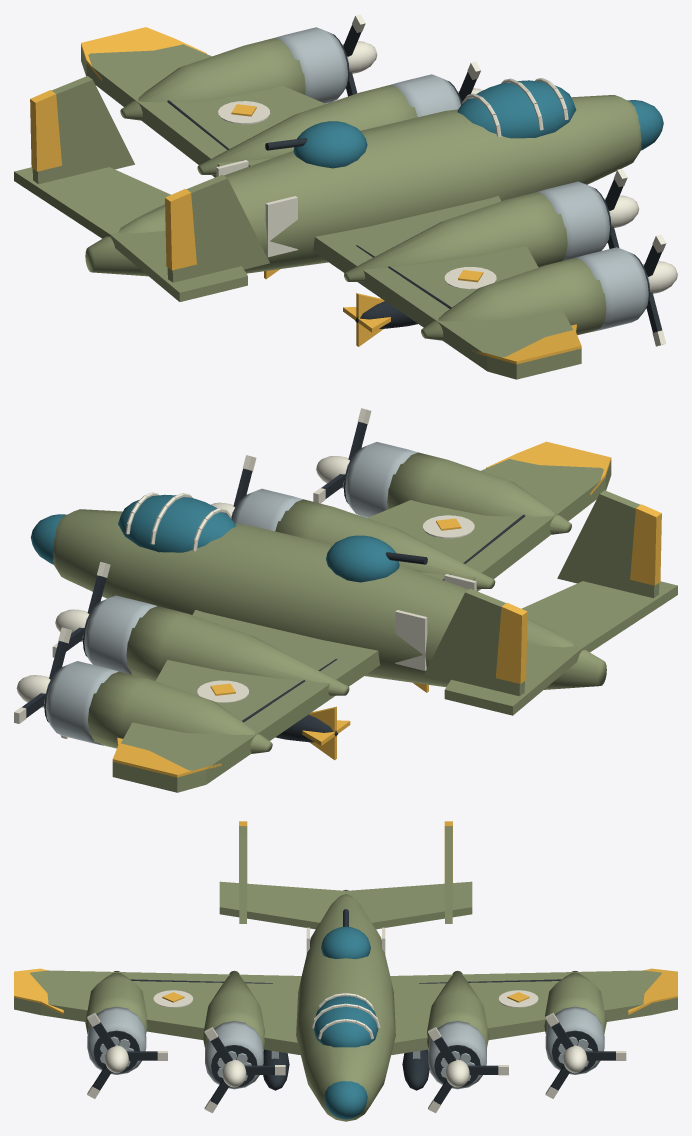
File: heavy.glb
3 renders of one model, top to bottom at view 1: azimuth 30°, elevation 25°; view 2: azimuth 150°, elevation 25°; view 3: azimuth 270°, elevation 25°, orthographic. The views are drawn at different scales.
Visible parts, largest first — view 1: Aircraft_heavy.002_Air_Olive.003, Aircraft_heavy.002_Air_Aluminium.003, Aircraft_heavy.002_Air_Amber.003, Aircraft_heavy.002_Air_Blue_Glass.003, Aircraft_heavy.002_Air_Ivory.003, Aircraft_heavy.002_Air_Charcoal.003, Propeller_heavy_-1_1.002_Air_Ivory.003, Propeller_heavy_1_1.002_Air_Ivory.003, Propeller_heavy_-1_0.002_Air_Ivory.003, Propeller_heavy_-1_1.002_Air_Charcoal.003; view 2: Aircraft_heavy.002_Air_Olive.003, Aircraft_heavy.002_Air_Aluminium.003, Aircraft_heavy.002_Air_Amber.003, Aircraft_heavy.002_Air_Blue_Glass.003, Aircraft_heavy.002_Air_Ivory.003, Aircraft_heavy.002_Air_Charcoal.003, Propeller_heavy_1_1.002_Air_Ivory.003, Propeller_heavy_-1_1.002_Air_Ivory.003, Propeller_heavy_1_0.002_Air_Ivory.003, Propeller_heavy_-1_1.002_Air_Charcoal.003, Propeller_heavy_1_1.002_Air_Charcoal.003, Propeller_heavy_1_0.002_Air_Charcoal.003; view 3: Aircraft_heavy.002_Air_Olive.003, Aircraft_heavy.002_Air_Aluminium.003, Aircraft_heavy.002_Air_Blue_Glass.003, Aircraft_heavy.002_Air_Charcoal.003, Aircraft_heavy.002_Air_Amber.003, Aircraft_heavy.002_Air_Ivory.003, Propeller_heavy_1_0.002_Air_Ivory.003, Propeller_heavy_-1_0.002_Air_Ivory.003, Propeller_heavy_-1_1.002_Air_Ivory.003, Propeller_heavy_1_1.002_Air_Ivory.003, Propeller_heavy_1_0.002_Air_Charcoal.003, Propeller_heavy_-1_1.002_Air_Charcoal.003 (+2 smaller).
Part boxes in pixels (x1,y1,x2,y2): Aircraft_heavy.002_Air_Olive.003: [14, 38, 641, 379]; Aircraft_heavy.002_Air_Aluminium.003: [275, 27, 649, 331]; Aircraft_heavy.002_Air_Amber.003: [30, 27, 581, 364]; Aircraft_heavy.002_Air_Blue_Glass.003: [293, 80, 663, 168]; Aircraft_heavy.002_Air_Ivory.003: [216, 78, 568, 289]; Aircraft_heavy.002_Air_Charcoal.003: [167, 34, 650, 328]; Propeller_heavy_-1_1.002_Air_Ivory.003: [643, 234, 677, 346]; Propeller_heavy_1_1.002_Air_Ivory.003: [342, 14, 377, 73]; Propeller_heavy_-1_0.002_Air_Ivory.003: [604, 168, 639, 227]; Propeller_heavy_-1_1.002_Air_Charcoal.003: [644, 245, 662, 332]; Aircraft_heavy.002_Air_Olive.003: [53, 452, 677, 792]; Aircraft_heavy.002_Air_Aluminium.003: [44, 442, 417, 745]; Aircraft_heavy.002_Air_Amber.003: [112, 441, 661, 777]; Aircraft_heavy.002_Air_Blue_Glass.003: [30, 494, 399, 582]; Aircraft_heavy.002_Air_Ivory.003: [125, 492, 476, 702]; Aircraft_heavy.002_Air_Charcoal.003: [44, 448, 525, 742]; Propeller_heavy_1_1.002_Air_Ivory.003: [14, 627, 71, 738]; Propeller_heavy_-1_1.002_Air_Ivory.003: [313, 408, 371, 503]; Propeller_heavy_1_0.002_Air_Ivory.003: [52, 562, 110, 657]; Propeller_heavy_-1_1.002_Air_Charcoal.003: [321, 421, 367, 498]; Propeller_heavy_1_1.002_Air_Charcoal.003: [22, 641, 67, 717]; Propeller_heavy_1_0.002_Air_Charcoal.003: [66, 575, 106, 651]; Aircraft_heavy.002_Air_Olive.003: [14, 826, 677, 1121]; Aircraft_heavy.002_Air_Aluminium.003: [87, 1006, 604, 1089]; Aircraft_heavy.002_Air_Blue_Glass.003: [313, 926, 378, 1119]; Aircraft_heavy.002_Air_Charcoal.003: [93, 909, 598, 1090]; Aircraft_heavy.002_Air_Amber.003: [14, 821, 677, 1050]; Aircraft_heavy.002_Air_Ivory.003: [153, 927, 538, 1039]; Propeller_heavy_1_0.002_Air_Ivory.003: [428, 1027, 508, 1113]; Propeller_heavy_-1_0.002_Air_Ivory.003: [204, 1027, 285, 1113]; Propeller_heavy_-1_1.002_Air_Ivory.003: [87, 1013, 167, 1098]; Propeller_heavy_1_1.002_Air_Ivory.003: [545, 1012, 626, 1098]; Propeller_heavy_1_0.002_Air_Charcoal.003: [433, 1036, 498, 1104]; Propeller_heavy_-1_1.002_Air_Charcoal.003: [92, 1022, 157, 1090].
Bounding box in the file's own units: 1.71 × 0.6378 × 2.26.
